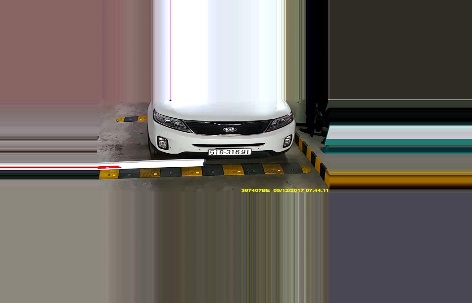plate: (206, 145, 253, 157)
